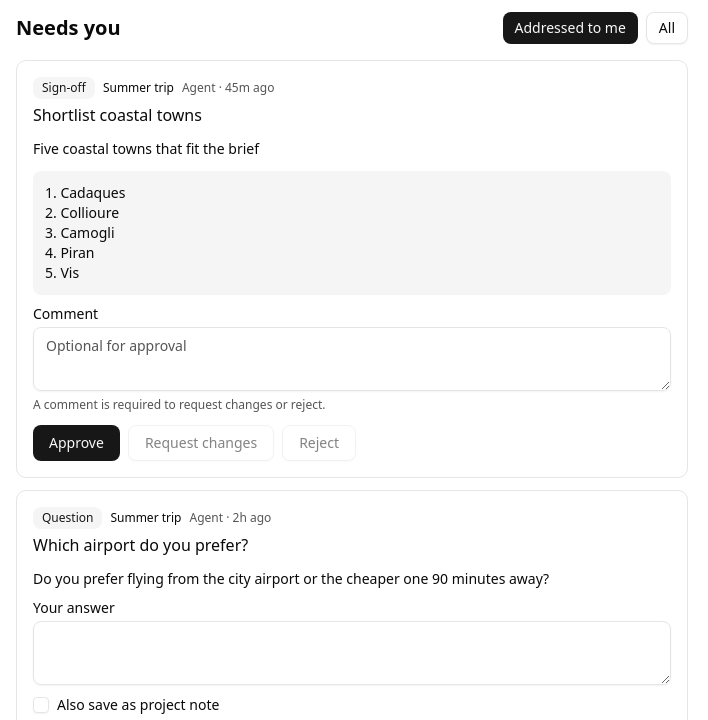
Scenario: Needs you inbox › Addressed to me hides approvals for the other user and is kept in the URL
Expected: the text "Five coastal towns that fit the brief" is shown, 33,139 -> 259,158
Expected: the text "Accommodation shortlist for Partner" is not shown
Click the button "All": (667, 28) 646,12 -> 688,44
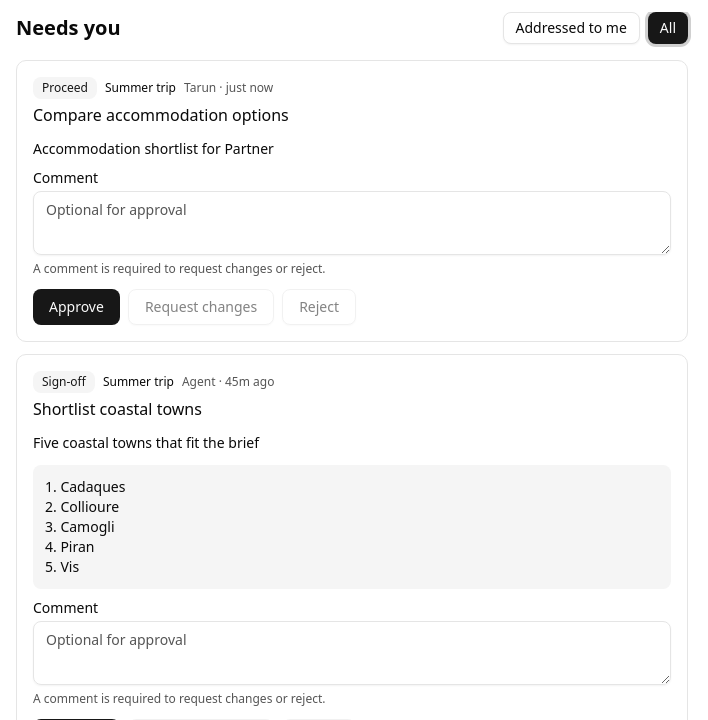
Now the text "Accommodation shortlist for Partner" is shown, box 33,139 -> 274,158
Click the button "Addressed to me": (571, 28) 502,12 -> 640,44
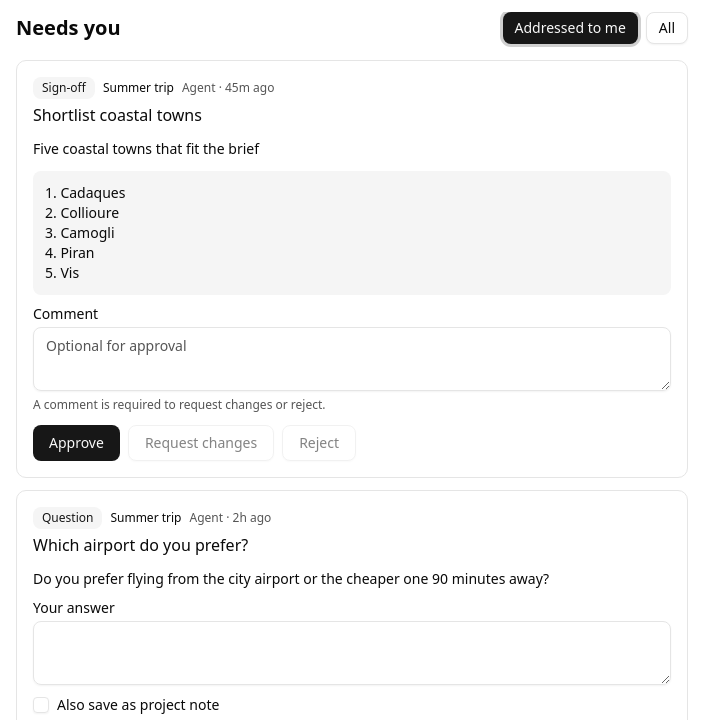
Now the text "Accommodation shortlist for Partner" is gone
